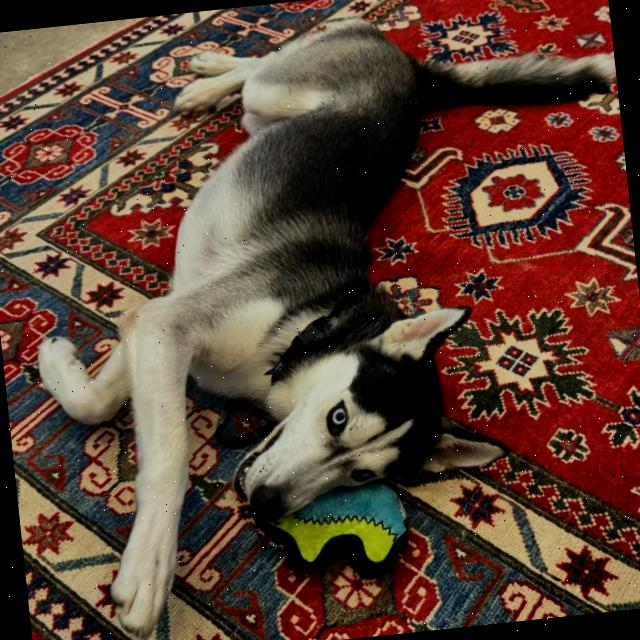siberian_husky_dog: (204, 297, 518, 534)
